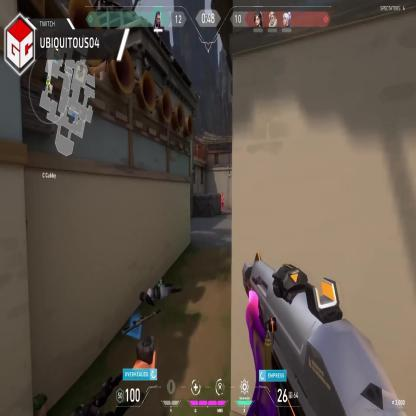enemy: (220, 192, 225, 212)
enemy_head: (221, 192, 224, 197)
